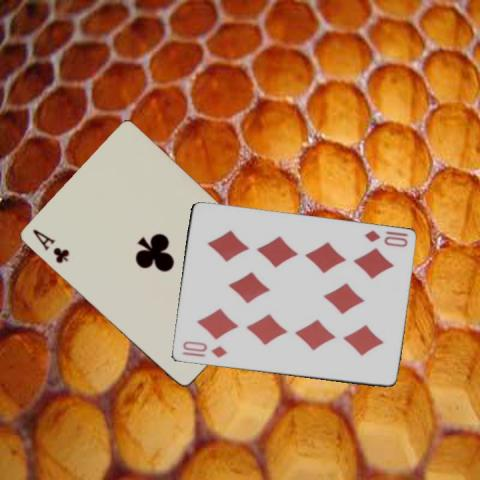10d: (361, 228, 409, 250), (179, 338, 228, 359)
Ac: (28, 226, 70, 265)
